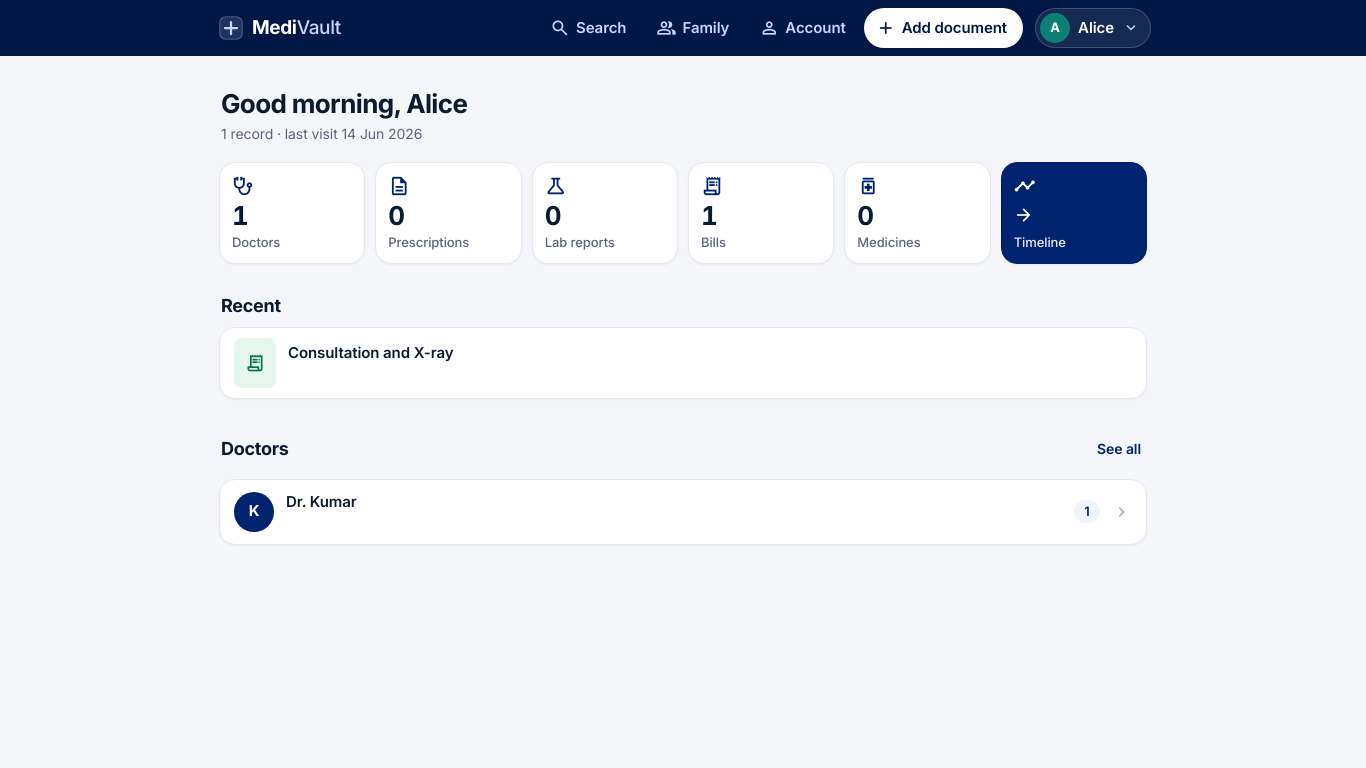
Scenario: a bill shows its amount and title instead of medicines
This screenshot has width=1366, height=768.
Click the button "Consultation and X-ray Bill · ₹4,820 14 Jun 2026".
click(255, 363)  # box [220, 328, 1146, 398]
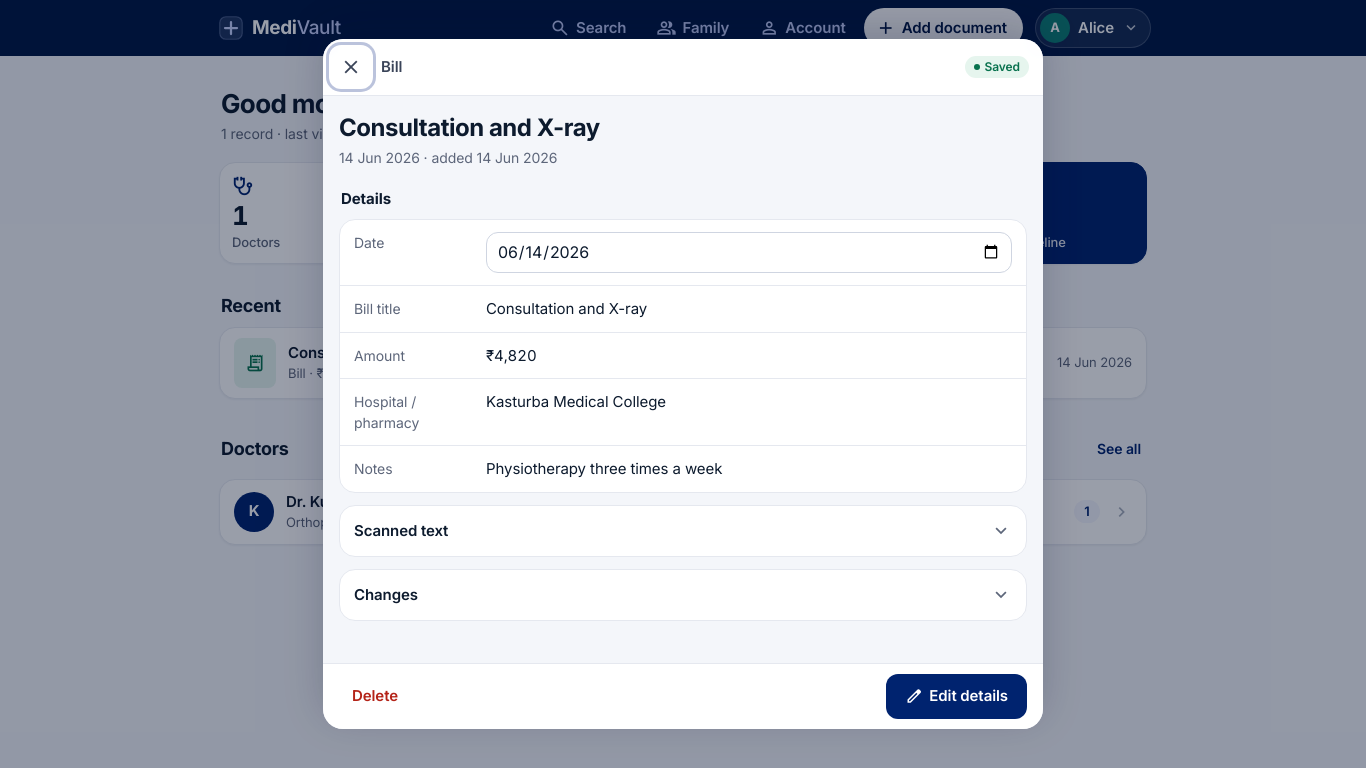
Expected: the heading "Consultation and X-ray" is shown, [339, 113, 600, 142]
